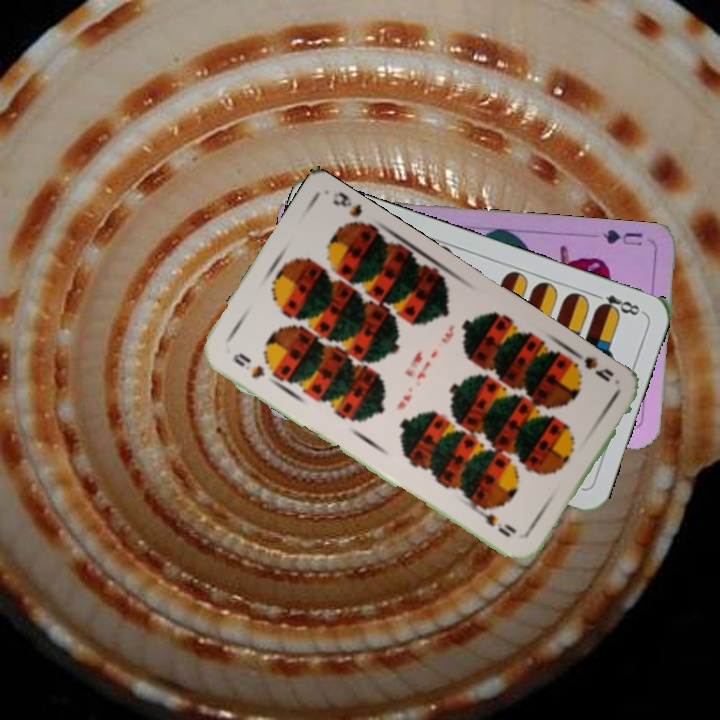E8: (588, 289, 646, 318)
GU: (599, 226, 645, 248)
S9: (565, 346, 616, 385), (229, 349, 268, 381)
